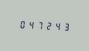four: (26, 19, 34, 30), (54, 20, 62, 31)
seven: (36, 19, 44, 30)
three: (63, 20, 71, 32)
two: (45, 20, 53, 31)
zero: (17, 18, 25, 30)
